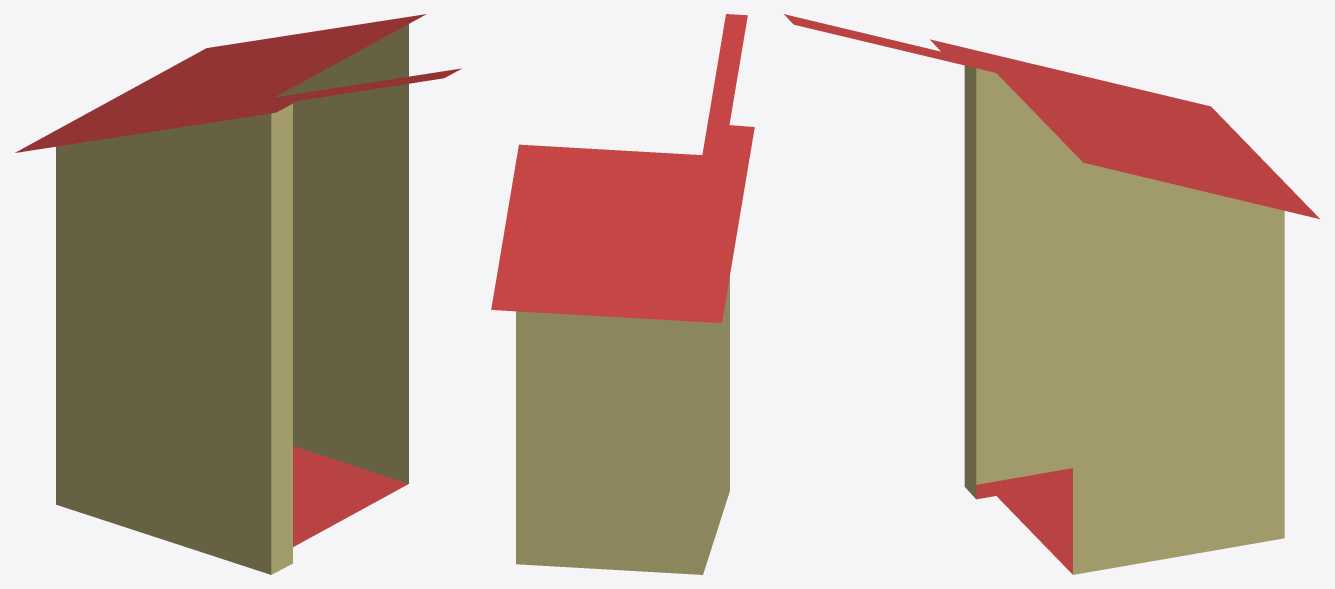
3 views of the same model, side by side, from view 1: azimuth 30°, elevation 25°; view 2: azimuth 150°, elevation 25°; view 3: azimuth 270°, elevation 25° (orthographic). The views are drawn at different scales.
Size of the model in its own units: 6.66 by 9.81 by 10.21.
